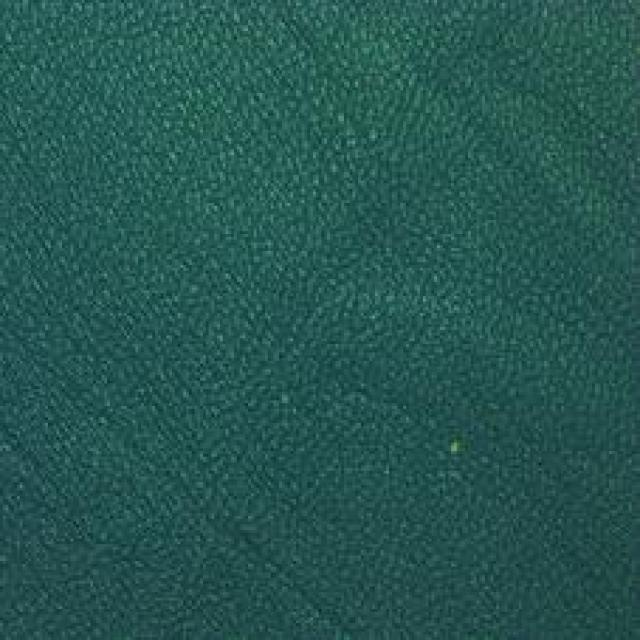Growth Marks: (56, 361, 333, 605)
